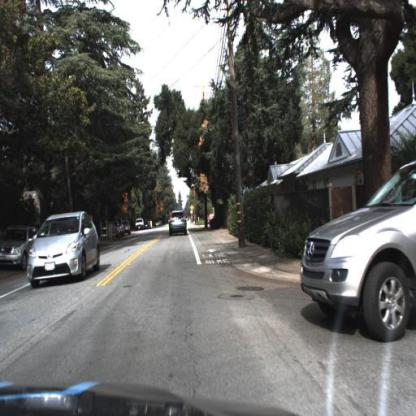car: (300, 156, 416, 346), (27, 211, 102, 291), (2, 225, 41, 270), (168, 208, 188, 238), (133, 214, 147, 235), (124, 218, 134, 238)
